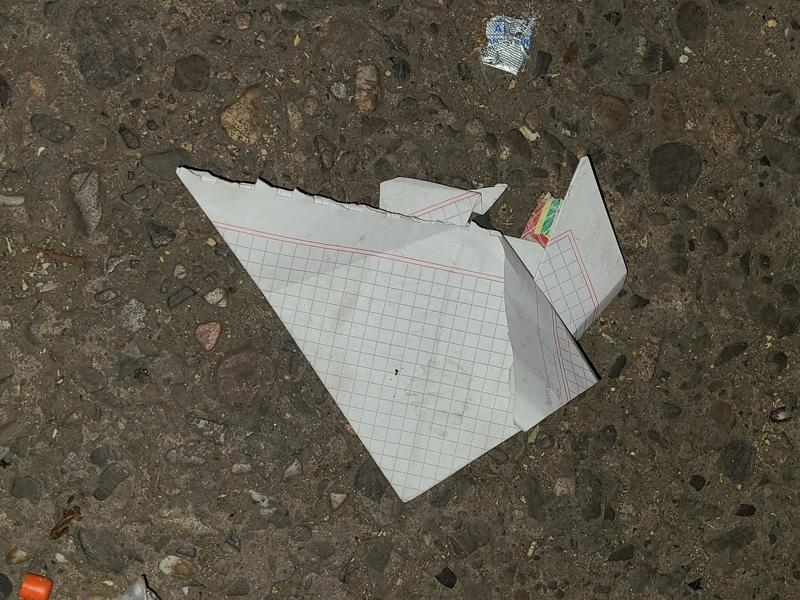papel: (172, 161, 627, 504)
